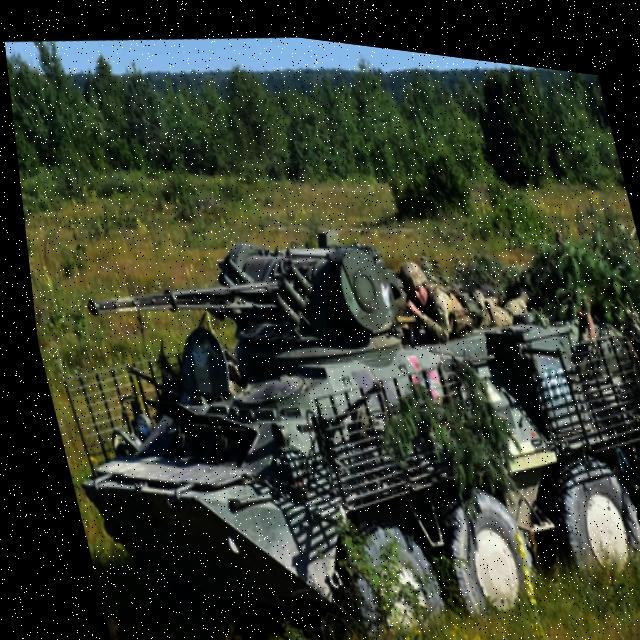MIL_APC: (21, 152, 640, 640)
